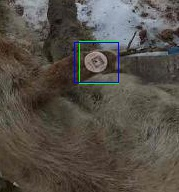text: (79, 41, 118, 83)
